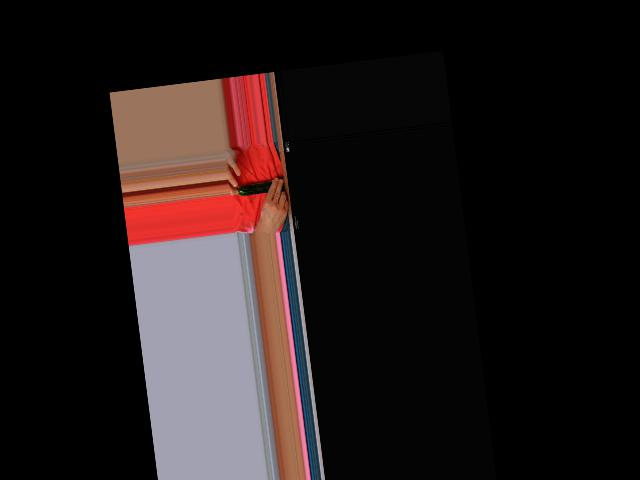cucumber: (237, 181, 274, 197)
